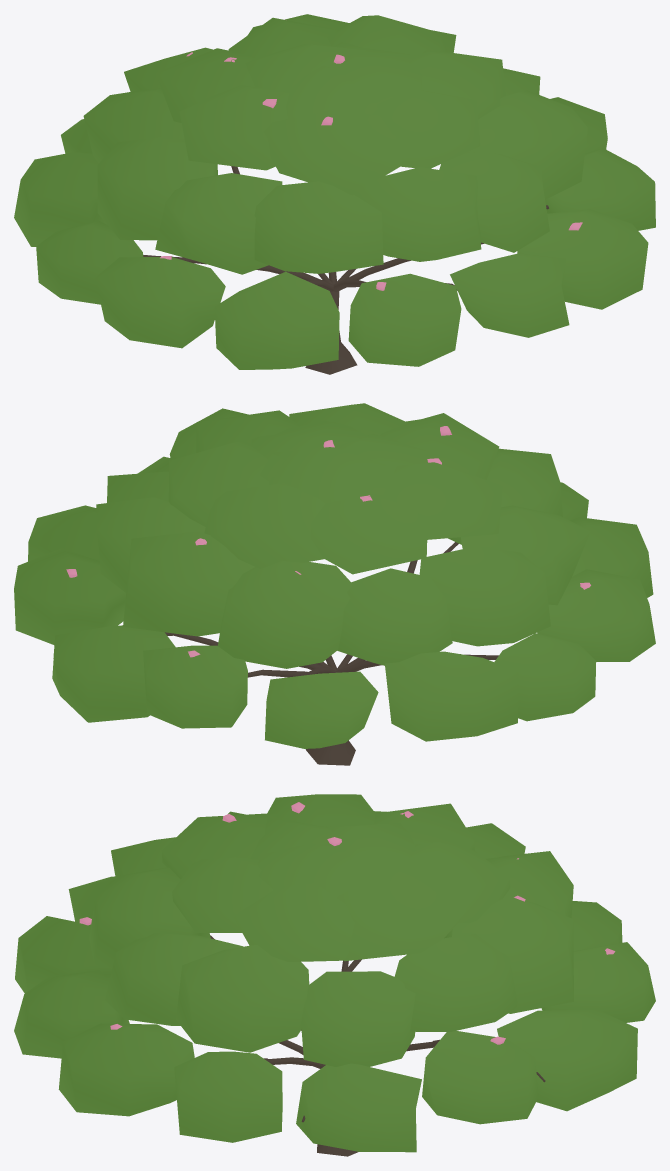
Rendered from Blender_Monkeypod_1_Far.glb.
3 renders of one model, top to bottom at view 1: azimuth 30°, elevation 25°; view 2: azimuth 150°, elevation 25°; view 3: azimuth 270°, elevation 25°, orthographic.
Parts seen in each view (by area): view 1: Blender_Monkeypod_1_Far; view 2: Blender_Monkeypod_1_Far; view 3: Blender_Monkeypod_1_Far.
Boxes of the visible parts, bbox=[...] form: Blender_Monkeypod_1_Far: bbox=[14, 14, 655, 374]; Blender_Monkeypod_1_Far: bbox=[14, 403, 655, 765]; Blender_Monkeypod_1_Far: bbox=[14, 794, 655, 1156].
Size of the model in its own units: 35.44 by 19.37 by 35.11.
